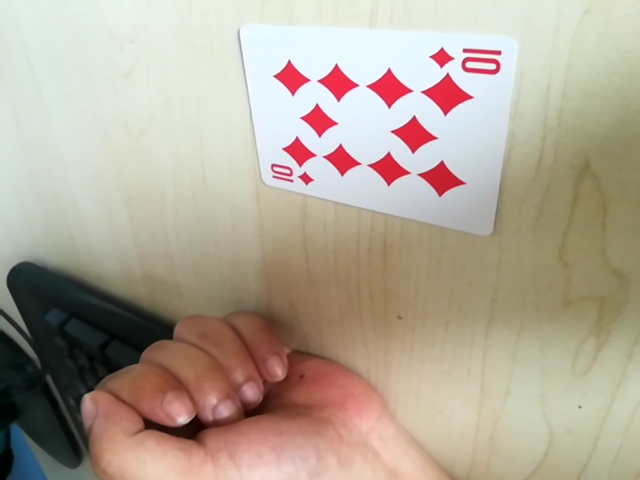fk 10: (429, 37, 507, 77), (263, 161, 316, 192)
